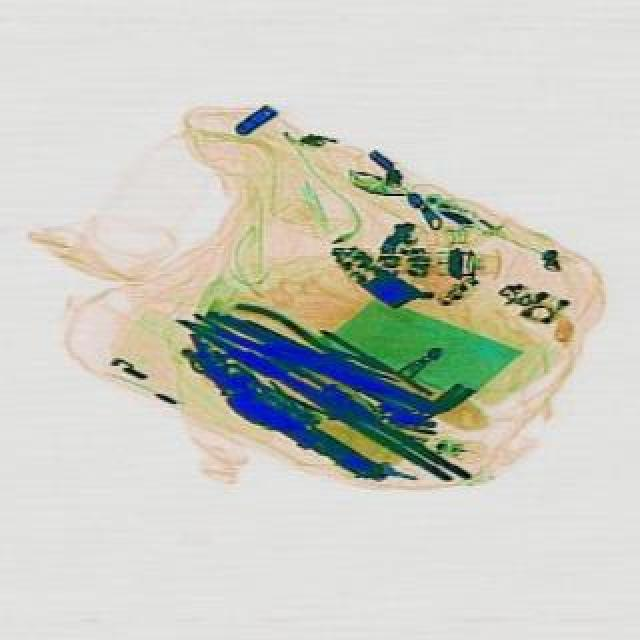wrench: (214, 298, 406, 408)
